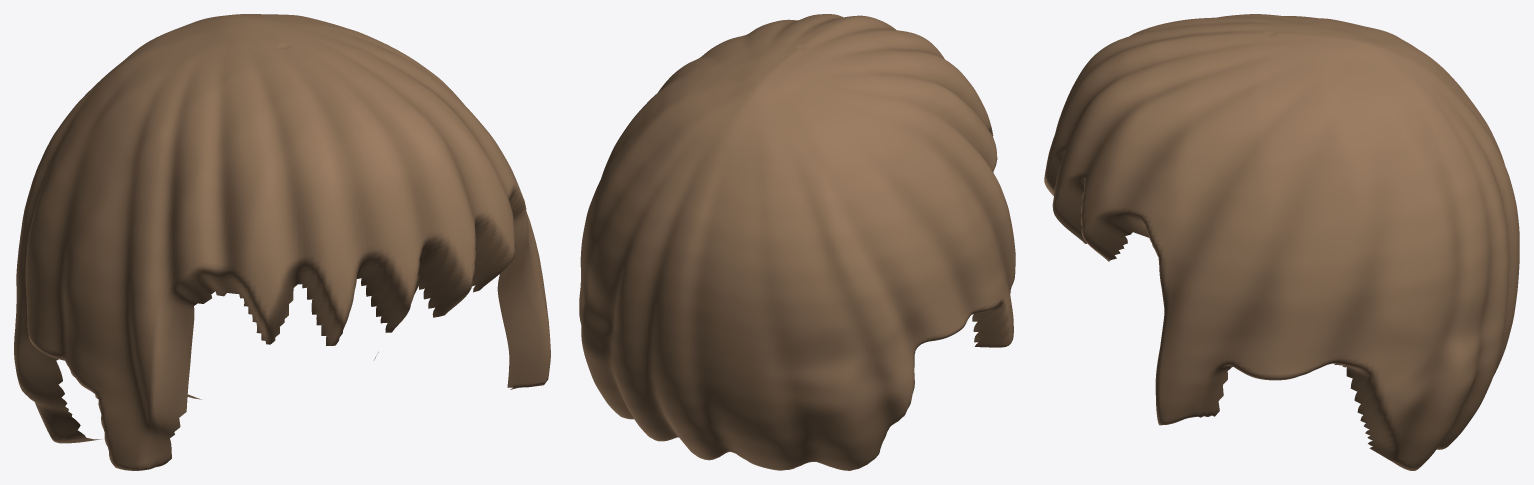
File: spiky.gltf
3 views of the same model, side by side, from view 1: azimuth 30°, elevation 25°; view 2: azimuth 150°, elevation 25°; view 3: azimuth 270°, elevation 25° (orthographic). The views are drawn at different scales.
Visible parts, largest first — view 1: Hair_spiky; view 2: Hair_spiky; view 3: Hair_spiky.
Part boxes in pixels (bbox=[...]): Hair_spiky: bbox=[14, 14, 550, 470]; Hair_spiky: bbox=[579, 14, 1015, 470]; Hair_spiky: bbox=[1044, 14, 1519, 470].
Bounding box in the file's own units: 0.4534 × 0.4158 × 0.4686.
